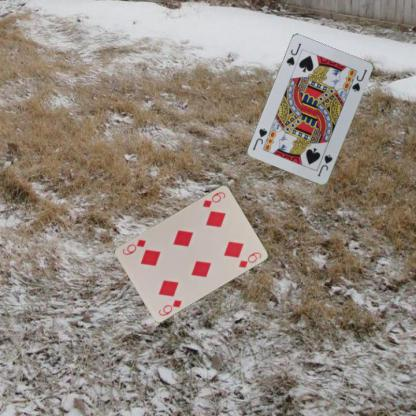6d: (200, 189, 227, 209), (156, 297, 183, 317)
Js: (315, 152, 334, 178), (284, 41, 302, 67)
